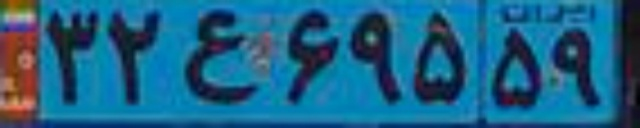2: (105, 7, 161, 104)
3: (44, 5, 100, 105)
5: (409, 11, 469, 105), (491, 25, 544, 108)
6: (283, 9, 336, 104)
9: (347, 11, 401, 105), (547, 26, 603, 107)
ain: (182, 9, 257, 103)
